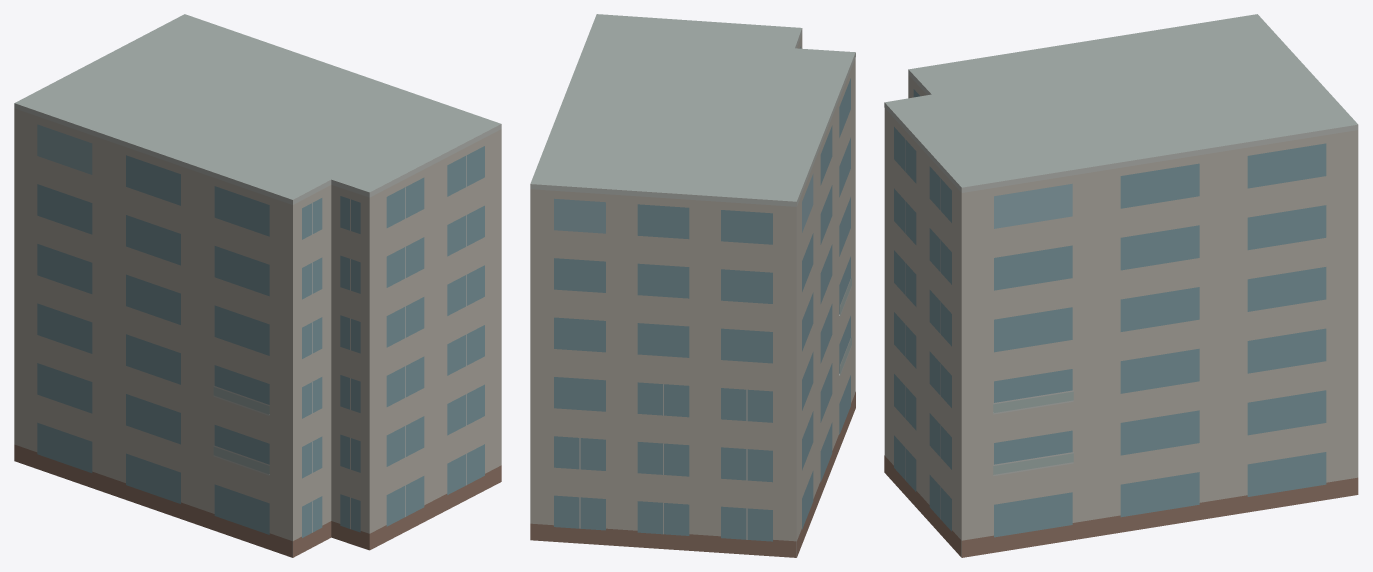
File: survey-upis-32828447.glb
3 views of the same model, side by side, from view 1: azimuth 30°, elevation 25°; view 2: azimuth 150°, elevation 25°; view 3: azimuth 270°, elevation 25° (orthographic). The views are drawn at different scales.
Parts seen in each view (by area): view 1: survey-upis-32828447.tmp; view 2: survey-upis-32828447.tmp; view 3: survey-upis-32828447.tmp.
Boxes of the visible parts, left/top/right/bottom form: survey-upis-32828447.tmp: left=14, top=14, right=501, bottom=557; survey-upis-32828447.tmp: left=530, top=14, right=855, bottom=557; survey-upis-32828447.tmp: left=884, top=14, right=1358, bottom=557.
Bounding box in the file's own units: 17.07 × 16.96 × 19.69.
